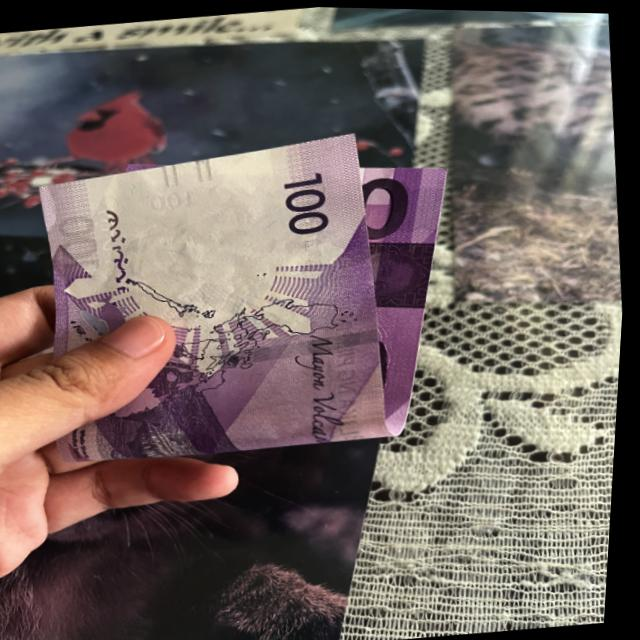security_thread: (179, 318, 384, 381)
value_watermark: (147, 188, 197, 224)
